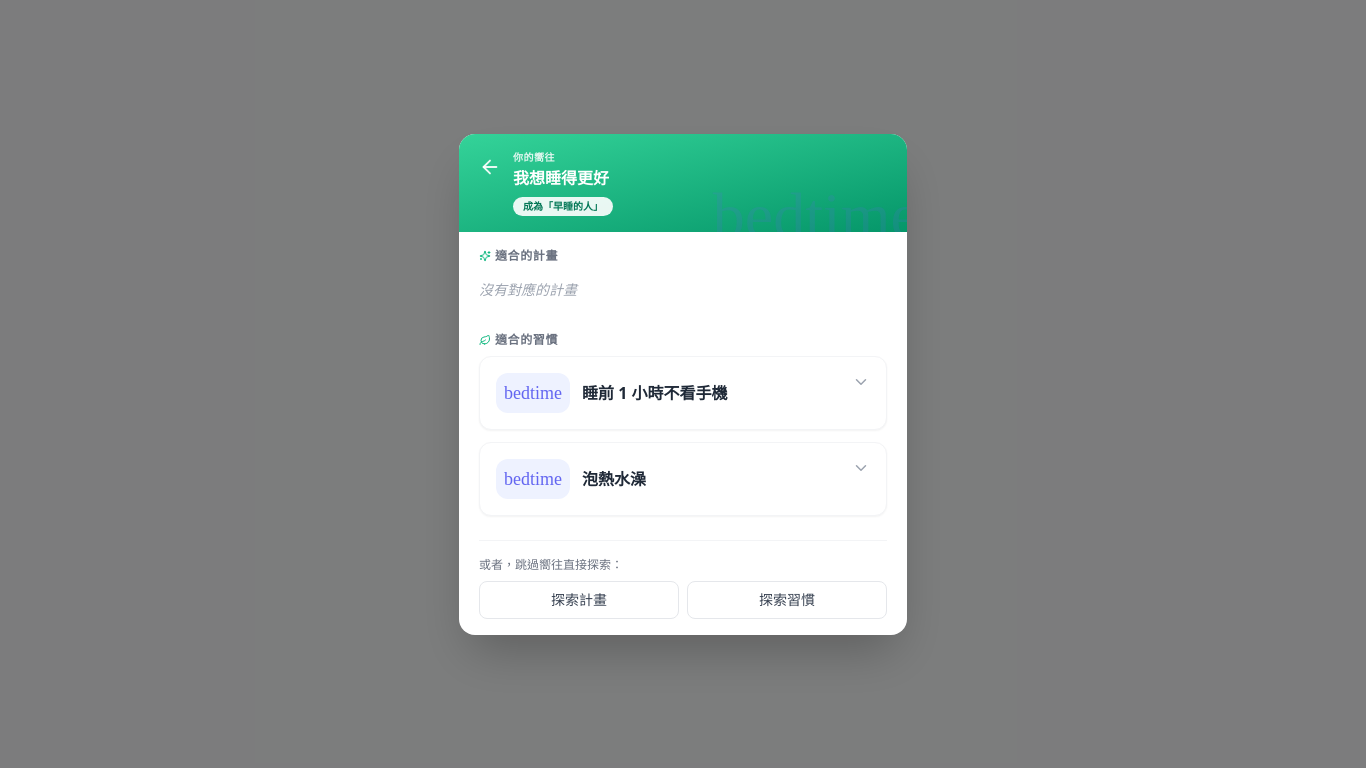
Test: AspirationRecommendationPanel — Task 4 header + evidence badge › 習慣以 HabitListView 呈現：預設收合，展開後出現難度選擇與動作（與探索習慣一致）
Expected: the heading "泡熱水澡" is shown, left=582, top=468, right=646, bottom=490
Expected: the text "選擇難度" is not shown
Note: 點習慣展開 → 出現難度選擇 + 加入候選/直接加入。
Click the heading "睡前 1 小時不看手機" at [655, 392], box left=582, top=382, right=728, bottom=404
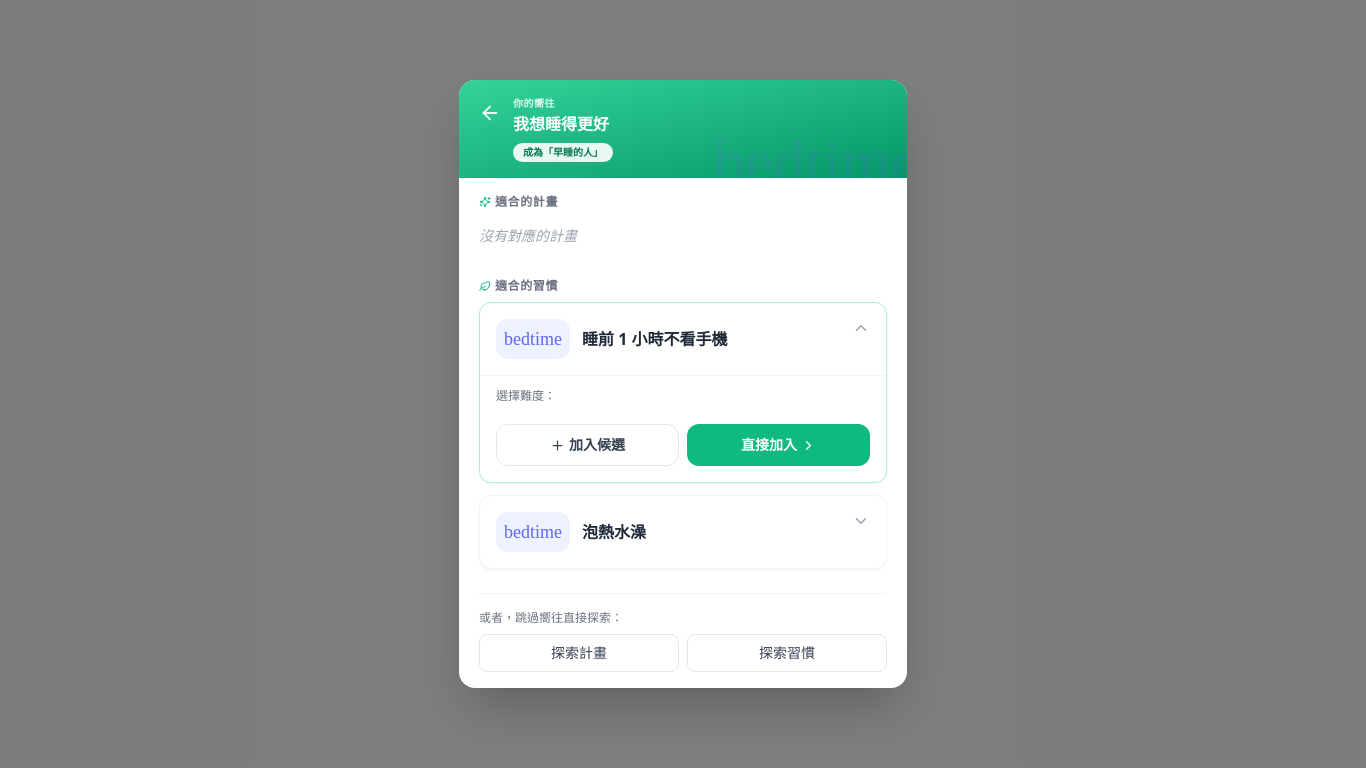
Result: the text "選擇難度：" is shown at left=496, top=387, right=556, bottom=404
Result: the button "加入候選" is shown at left=496, top=424, right=679, bottom=466
Result: the button "直接加入" is shown at left=687, top=424, right=870, bottom=466
